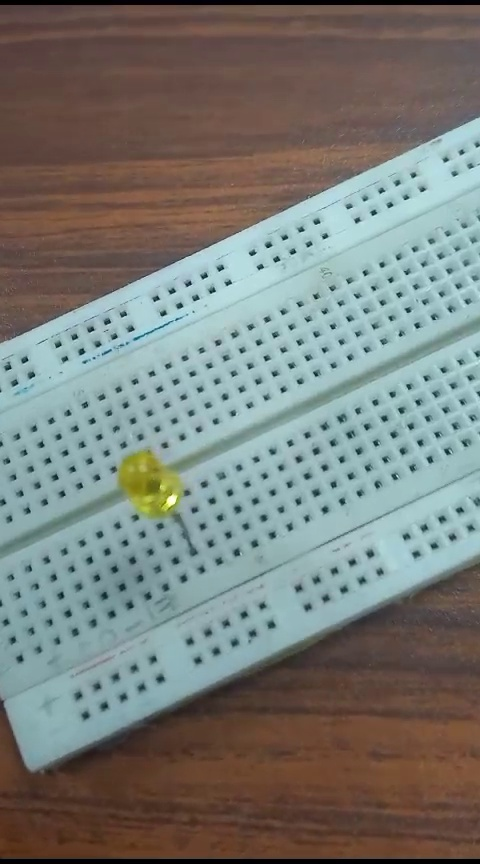LED: (108, 451, 196, 563)
